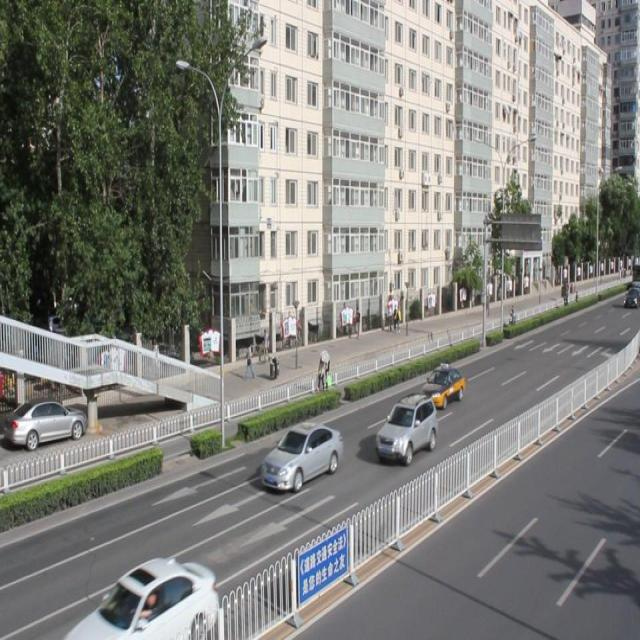car: (68, 557, 219, 640), (260, 421, 341, 489), (374, 392, 436, 459), (418, 360, 465, 408)
